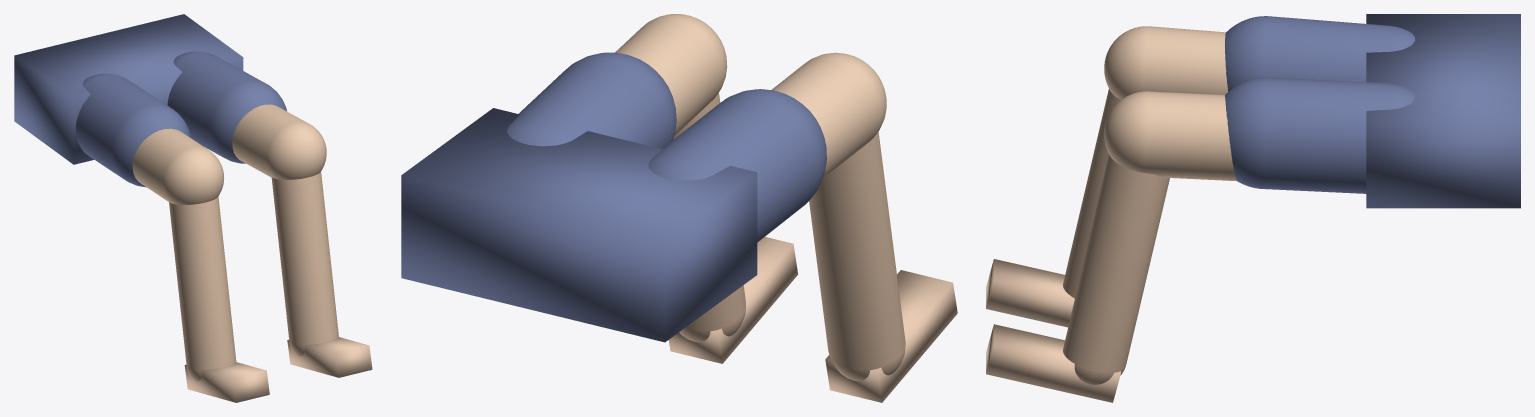
Rendered from legs.glb.
3 renders of one model, left to right at view 1: azimuth 30°, elevation 25°; view 2: azimuth 150°, elevation 25°; view 3: azimuth 270°, elevation 25°, orthographic. The views are drawn at different scales.
Visible parts, largest first — view 1: leg_part_8, leg_part_5, leg_part_1, leg_part_7, leg_part_3, leg_part_4, leg_part_0, leg_part_2, leg_part_6; view 2: leg_part_8, leg_part_1, leg_part_3, leg_part_7, leg_part_0, leg_part_4, leg_part_2, leg_part_6, leg_part_5; view 3: leg_part_8, leg_part_7, leg_part_5, leg_part_4, leg_part_3, leg_part_0, leg_part_6, leg_part_2, leg_part_1.
Boxes of the visible parts, bbox=[...] form: leg_part_8: bbox=[14, 14, 243, 164]; leg_part_5: bbox=[271, 172, 338, 356]; leg_part_1: bbox=[169, 196, 236, 381]; leg_part_7: bbox=[167, 51, 286, 163]; leg_part_3: bbox=[75, 73, 190, 187]; leg_part_4: bbox=[232, 104, 326, 179]; leg_part_0: bbox=[132, 128, 224, 204]; leg_part_2: bbox=[184, 362, 269, 402]; leg_part_6: bbox=[287, 337, 372, 377]; leg_part_8: bbox=[401, 108, 757, 342]; leg_part_1: bbox=[809, 132, 905, 381]; leg_part_3: bbox=[648, 89, 826, 242]; leg_part_7: bbox=[507, 52, 676, 148]; leg_part_0: bbox=[772, 52, 886, 178]; leg_part_4: bbox=[615, 14, 727, 135]; leg_part_2: bbox=[825, 270, 957, 402]; leg_part_6: bbox=[668, 237, 798, 363]; leg_part_5: bbox=[673, 93, 745, 342]; leg_part_8: bbox=[1366, 14, 1520, 208]; leg_part_7: bbox=[1225, 77, 1414, 193]; leg_part_5: bbox=[1063, 154, 1169, 384]; leg_part_4: bbox=[1104, 91, 1236, 181]; leg_part_3: bbox=[1225, 16, 1414, 91]; leg_part_0: bbox=[1104, 26, 1228, 99]; leg_part_6: bbox=[986, 324, 1120, 402]; leg_part_2: bbox=[986, 259, 1074, 327]; leg_part_1: bbox=[1063, 89, 1120, 298].
Bounding box in the file's own units: 0.4325 × 0.5709 × 0.8997.
